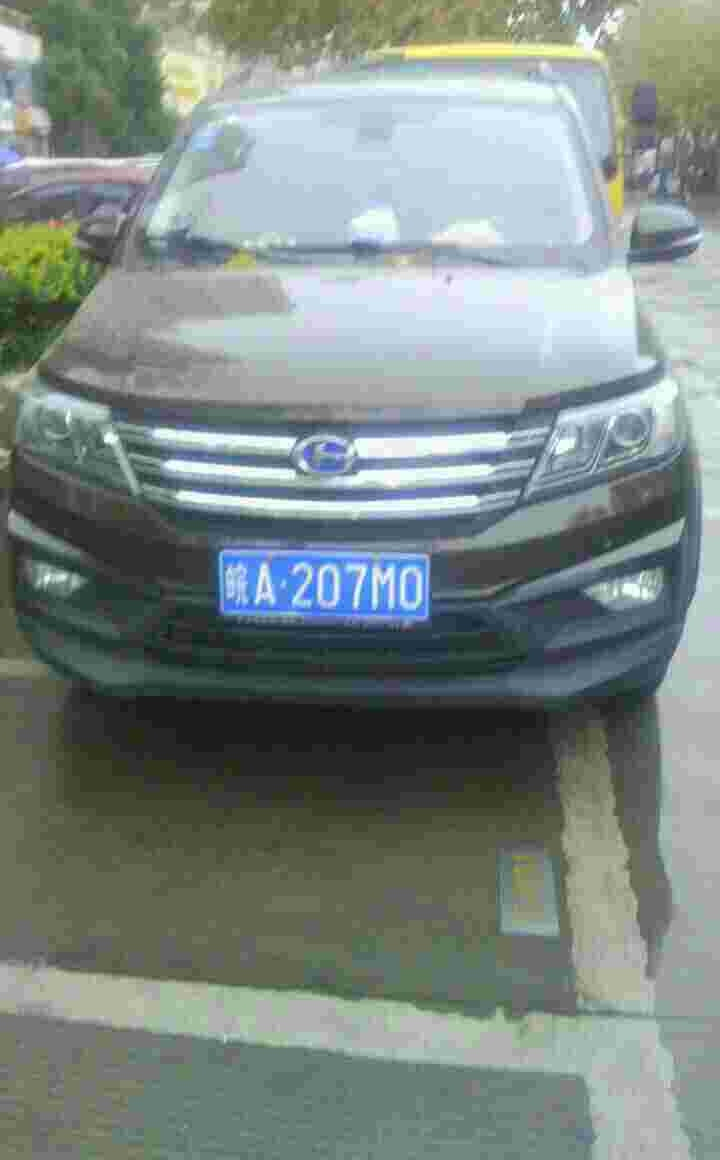license_plate: (226, 548, 424, 622)
